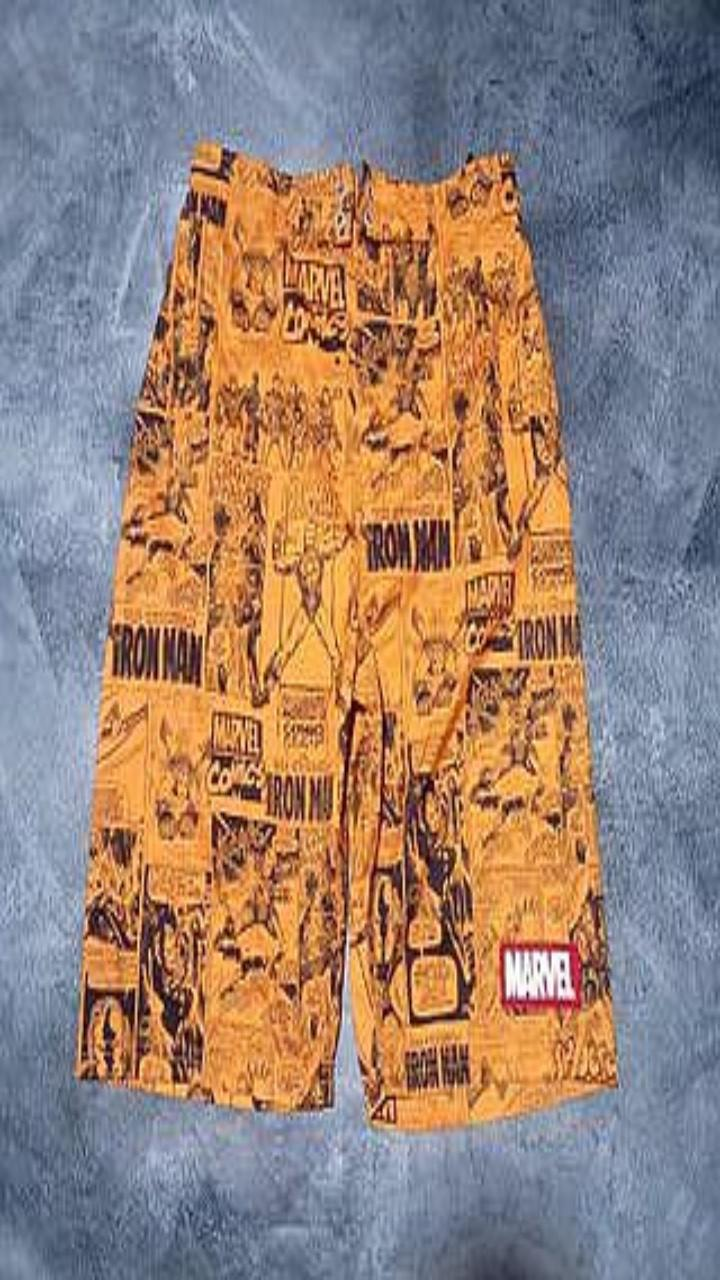Shorts: (75, 143, 616, 1128)
